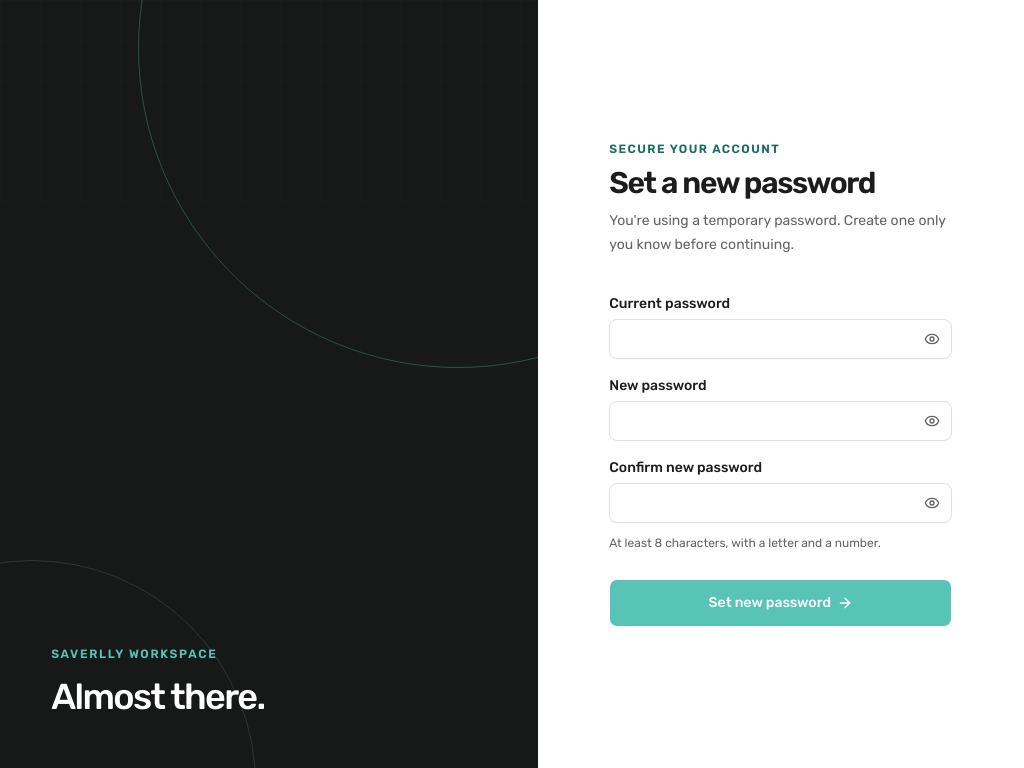
Test case: ChangePasswordForm › shows a client-side error and does not submit when the new passwords don't match
In the password field labelled "Current password": x=781, y=339 [609, 319, 952, 359], type "TempPass123!"
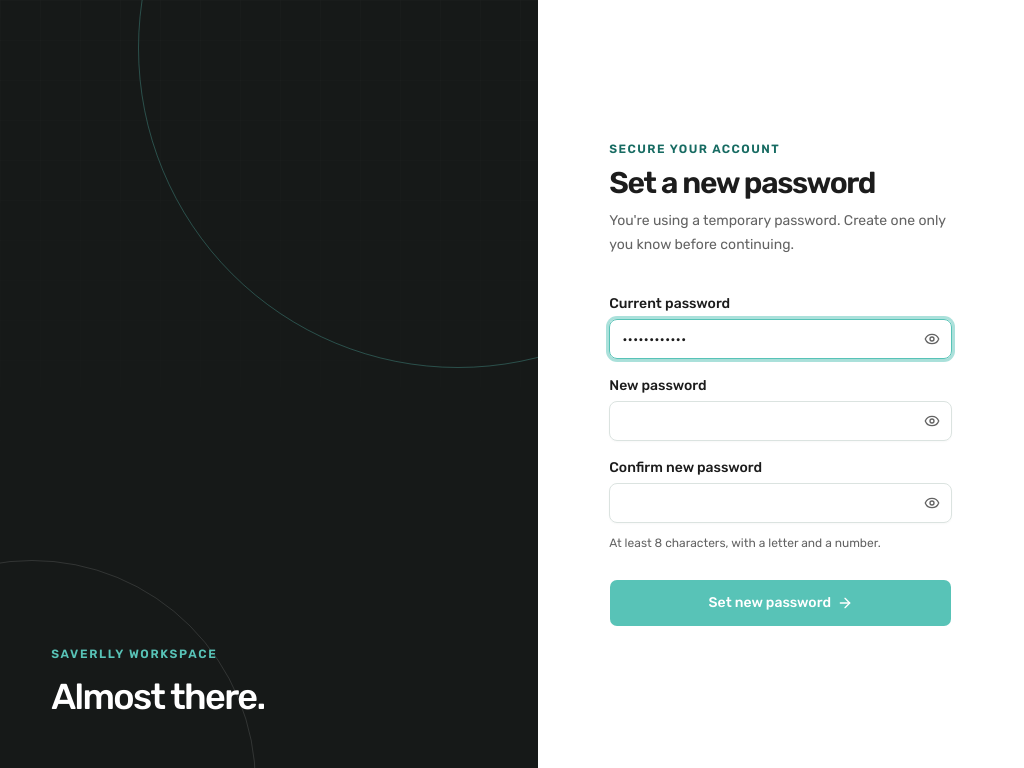
In the password field labelled "New password": x=781, y=421 [609, 401, 952, 441], type "NewPassword123!"
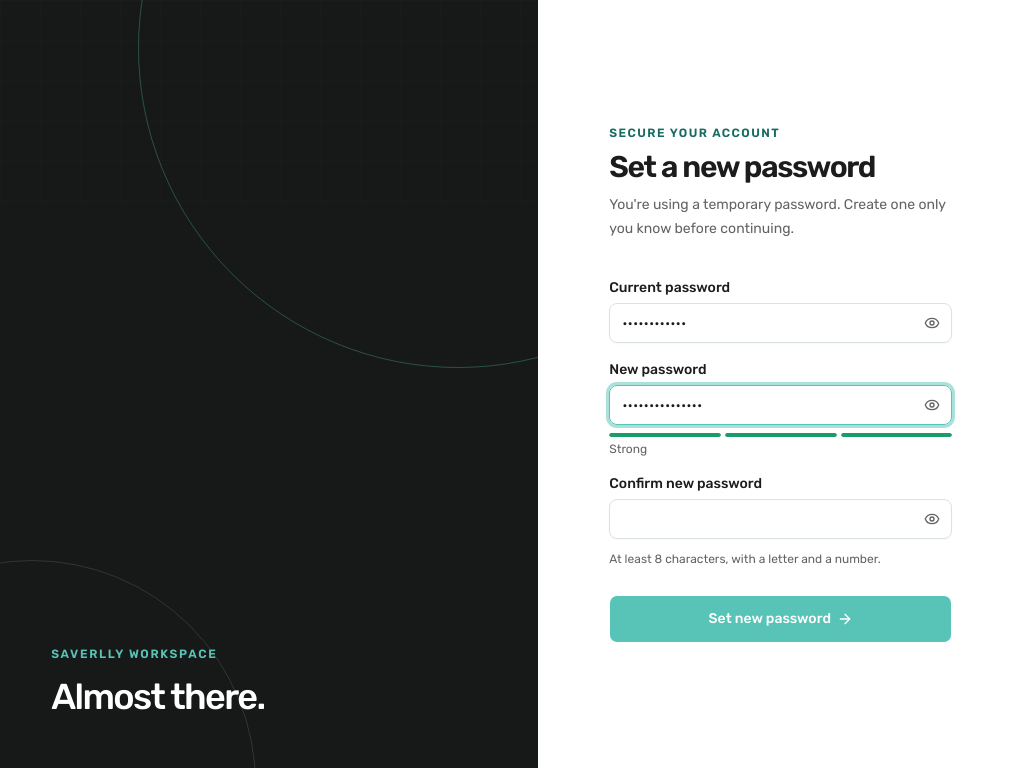
In the password field labelled "Confirm new password": x=781, y=519 [609, 499, 952, 539], type "Mismatch123!"
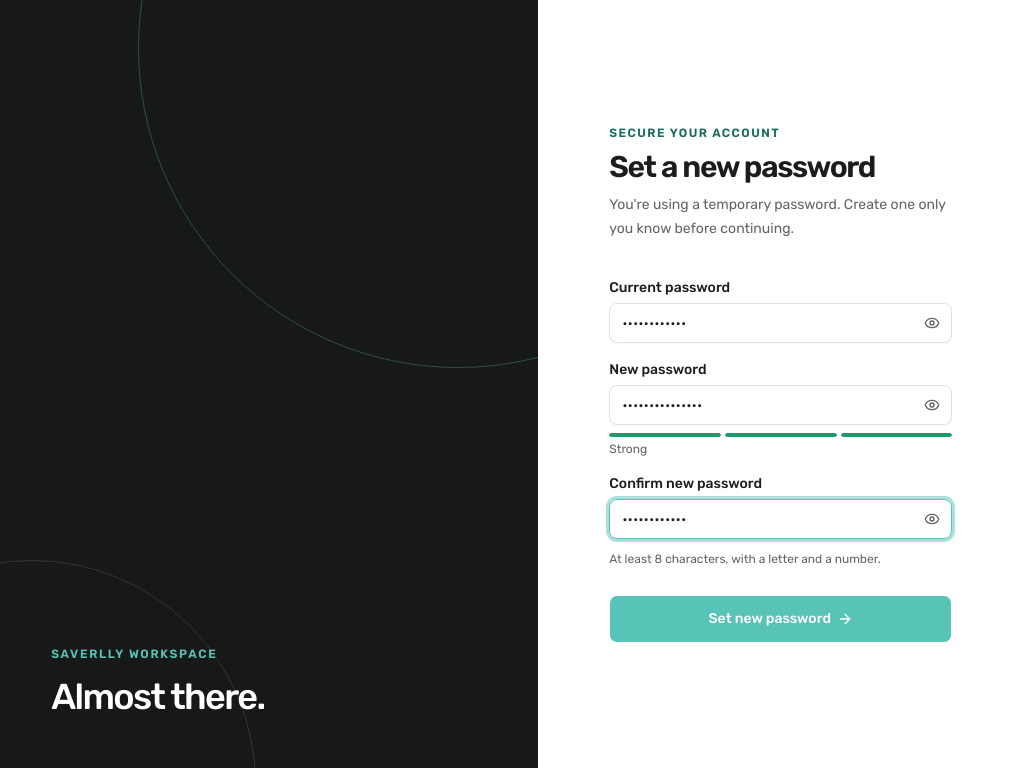
Click the button "Set new password": x=781, y=619 [609, 595, 952, 643]
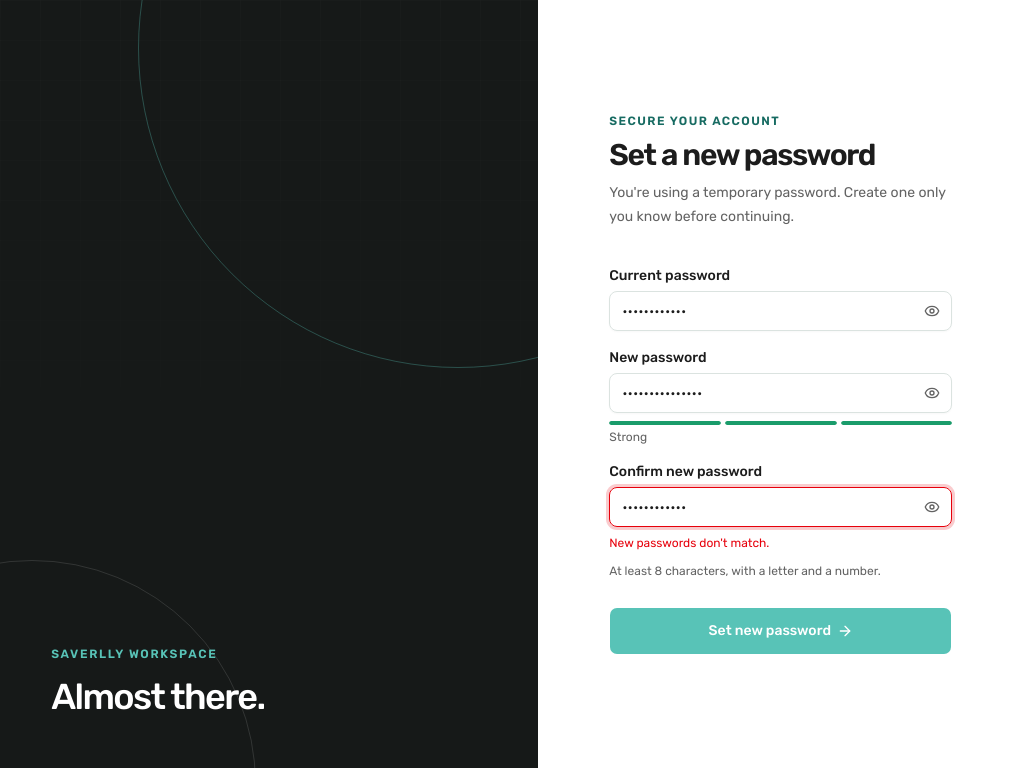
expect the text "New passwords don't match." is shown: met, box [609, 536, 769, 550]
